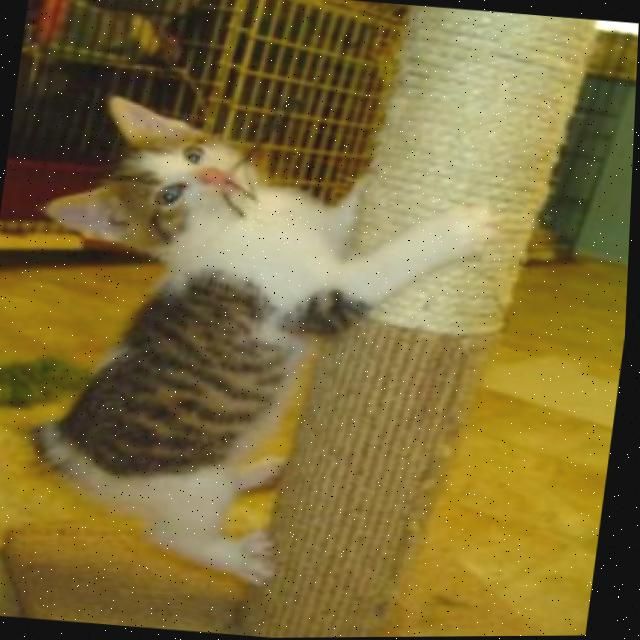American Bobtail: (0, 75, 514, 609)
